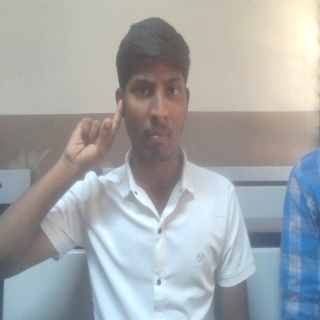Deaf: (60, 97, 124, 178)
Face: (113, 15, 192, 165)
